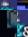recallP: (17, 10, 28, 37), (0, 0, 17, 10)
